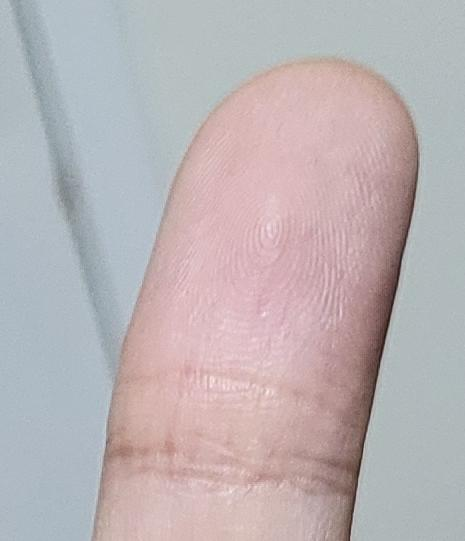Fingerprints: (113, 58, 419, 433)
